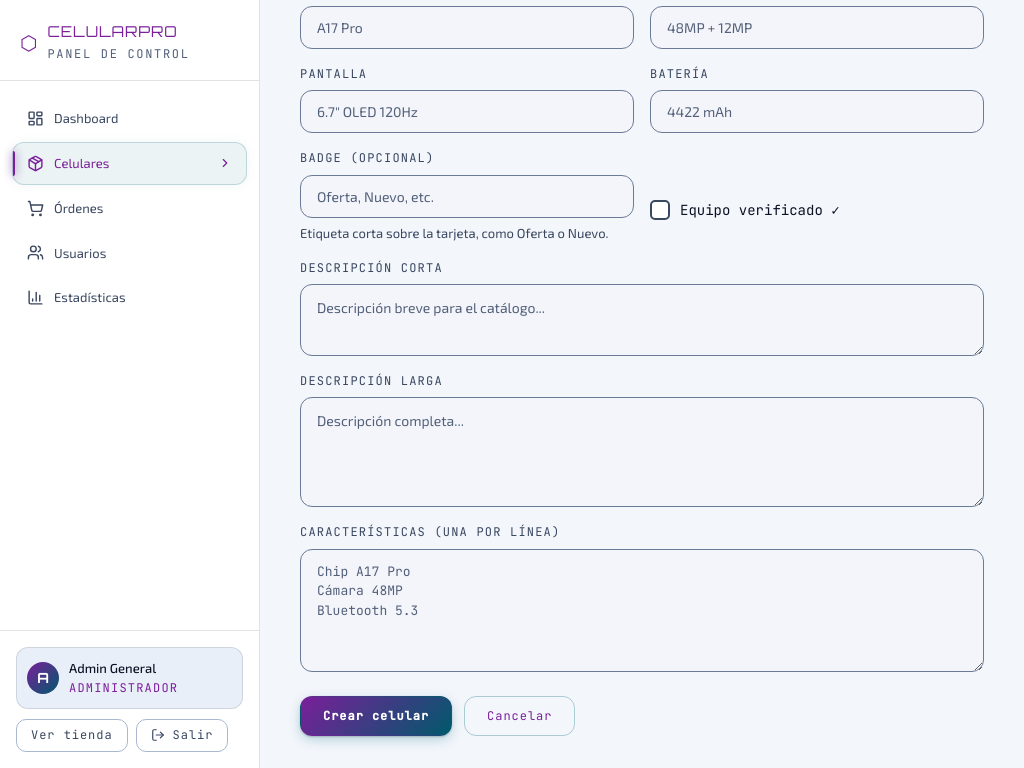
Panel de celulares — detalles del listado y del formulario › Cancelar vuelve al listado sin guardar
The image size is (1024, 768).
(page scrolled)
Click the button "Cancelar" at coordinates (520, 716), box [464,696,575,736]
(page scrolled)
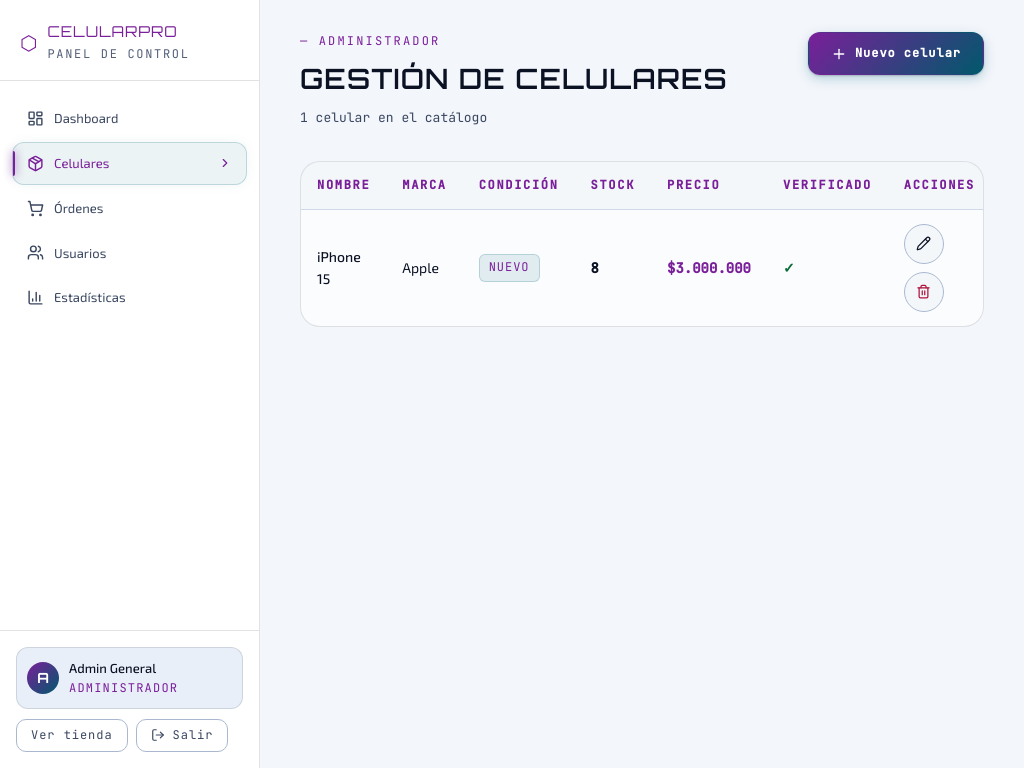
Expected: the heading "Gestión de celulares" is shown, [300,57,728,102]
